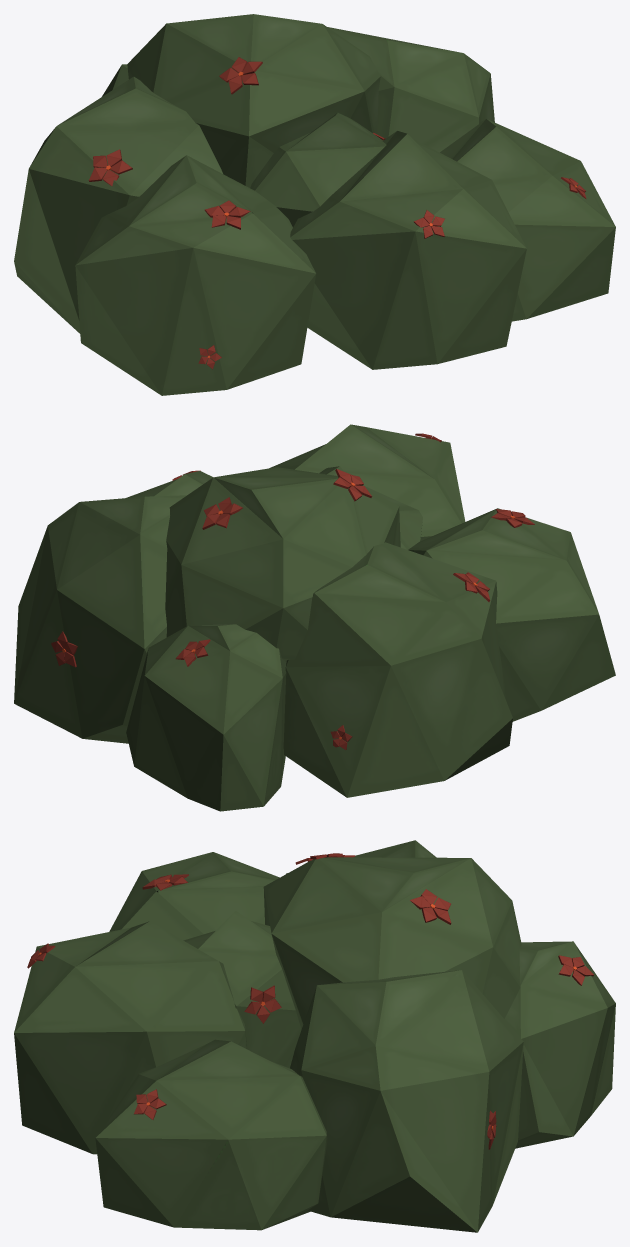
File: Firebush.fbx
3 views of the same model, one above another, from view 1: azimuth 30°, elevation 25°; view 2: azimuth 150°, elevation 25°; view 3: azimuth 270°, elevation 25° (orthographic). The views are drawn at different scales.
Parts seen in each view (by area): view 1: GeoSphere024, Box037; view 2: GeoSphere024, Box037; view 3: GeoSphere024, Box037.
Boxes of the visible parts, x1,y1,x2,y2 form: GeoSphere024: (14,14,615,395); Box037: (88,57,586,369); GeoSphere024: (14,424,615,811); Box037: (51,433,534,749); GeoSphere024: (14,840,615,1232); Box037: (27,853,593,1149).
Bounding box in the file's own units: 58.83 × 28.71 × 57.91.
